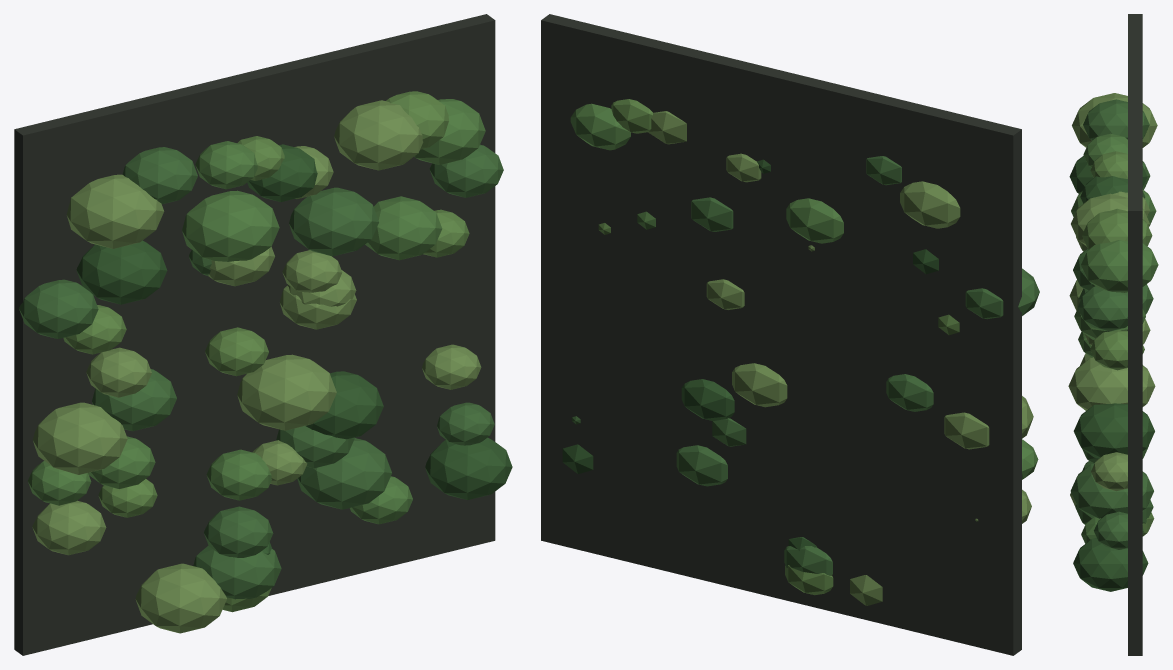
The model's file is parede-verde.glb.
The picture shows the model from 3 angles, left to right: view 1: azimuth 30°, elevation 25°; view 2: azimuth 150°, elevation 25°; view 3: azimuth 270°, elevation 25°; orthographic projection. The views are drawn at different scales.
Parts seen in each view (by area): view 1: parede-verde_malha; view 2: parede-verde_malha; view 3: parede-verde_malha.
Boxes of the visible parts, x1,y1,x2,y2 form: parede-verde_malha: (14, 14, 512, 655); parede-verde_malha: (541, 14, 1039, 655); parede-verde_malha: (1068, 14, 1158, 655).
Size of the model in its own units: 1.93 by 2 by 0.3672.
